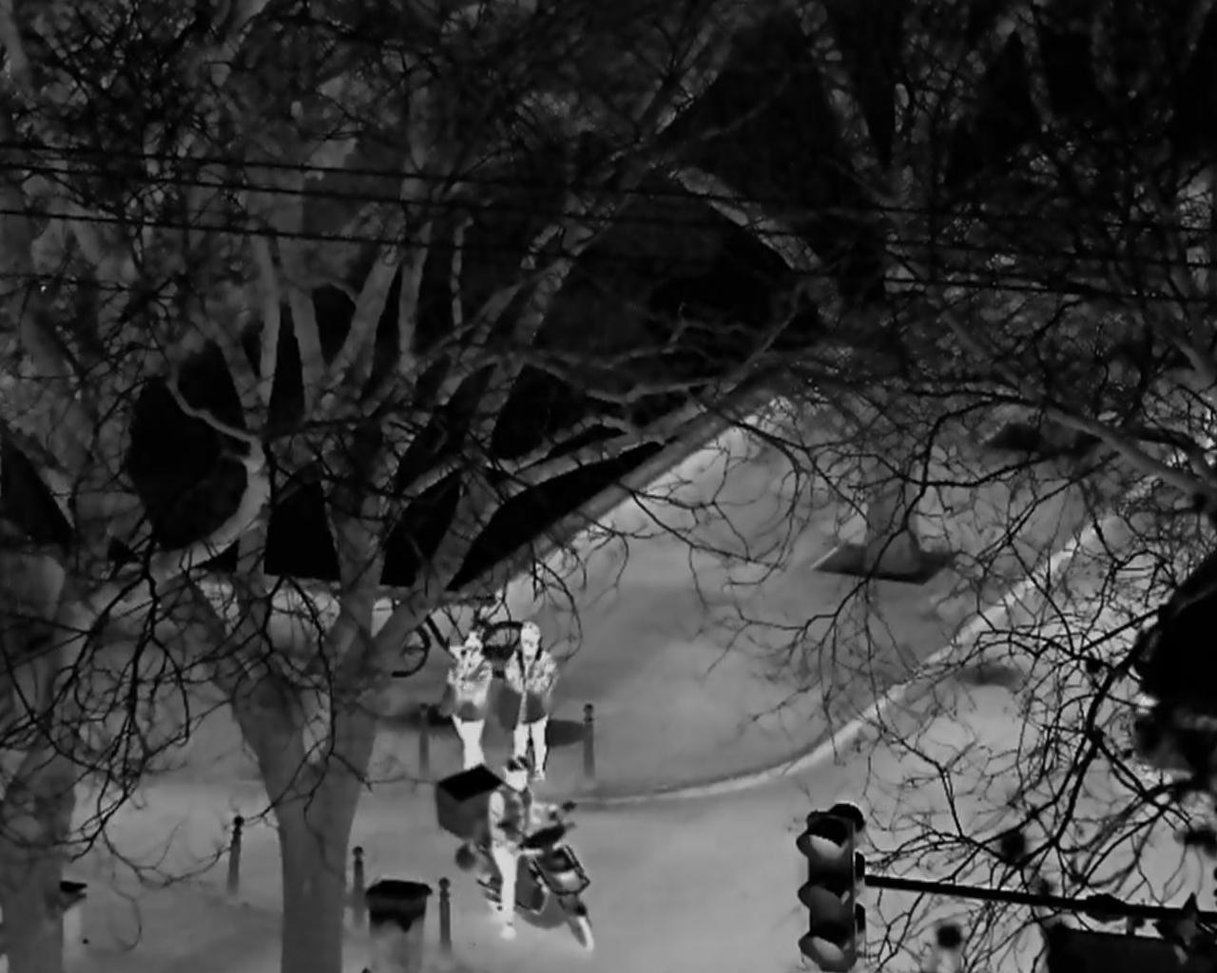person: (486, 758, 560, 938), (503, 620, 559, 779), (437, 632, 494, 769)
